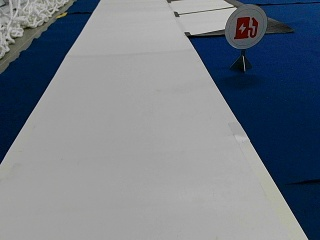battery: (224, 2, 267, 49)
